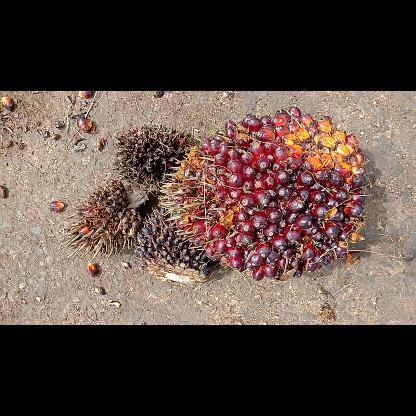TBS abnormal: (54, 177, 144, 263), (133, 204, 215, 286), (111, 122, 195, 194)
TBS masak: (156, 105, 367, 283)
